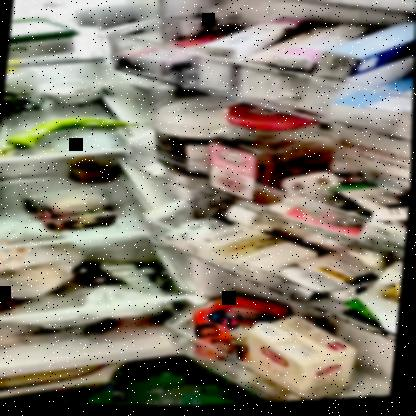cream_cheese: (9, 17, 76, 62)
green_chillies: (0, 111, 133, 162)
milk: (249, 315, 355, 397)
olives: (3, 87, 44, 119)
